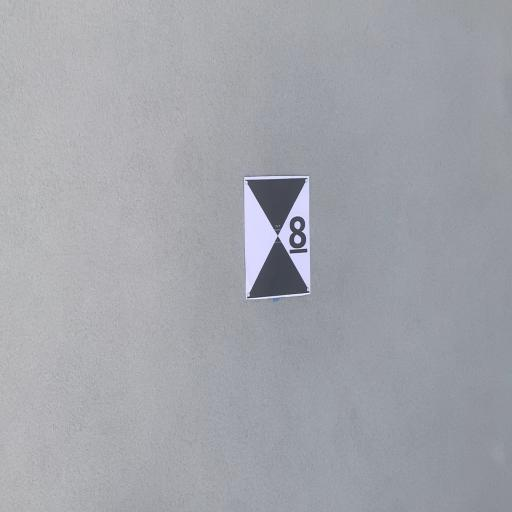target8: (245, 177, 311, 299)
